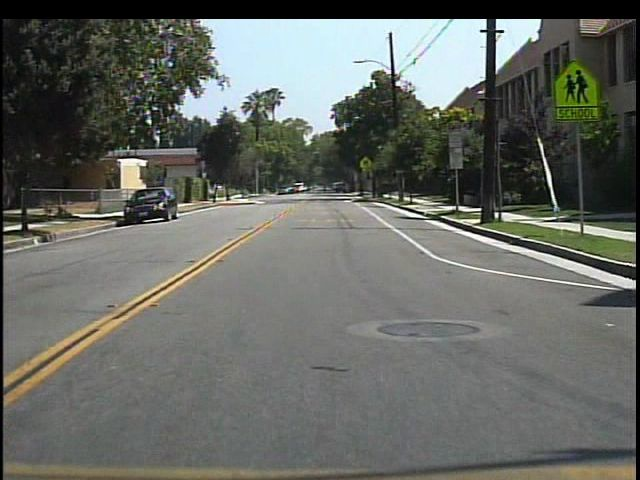person: (317, 179, 332, 196)
